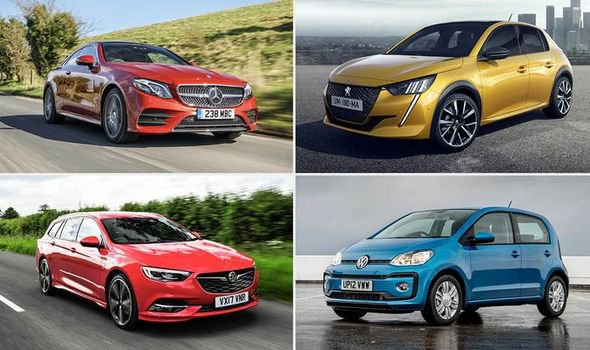car: (323, 19, 574, 147), (320, 202, 570, 324), (37, 207, 261, 330), (41, 34, 256, 148)
